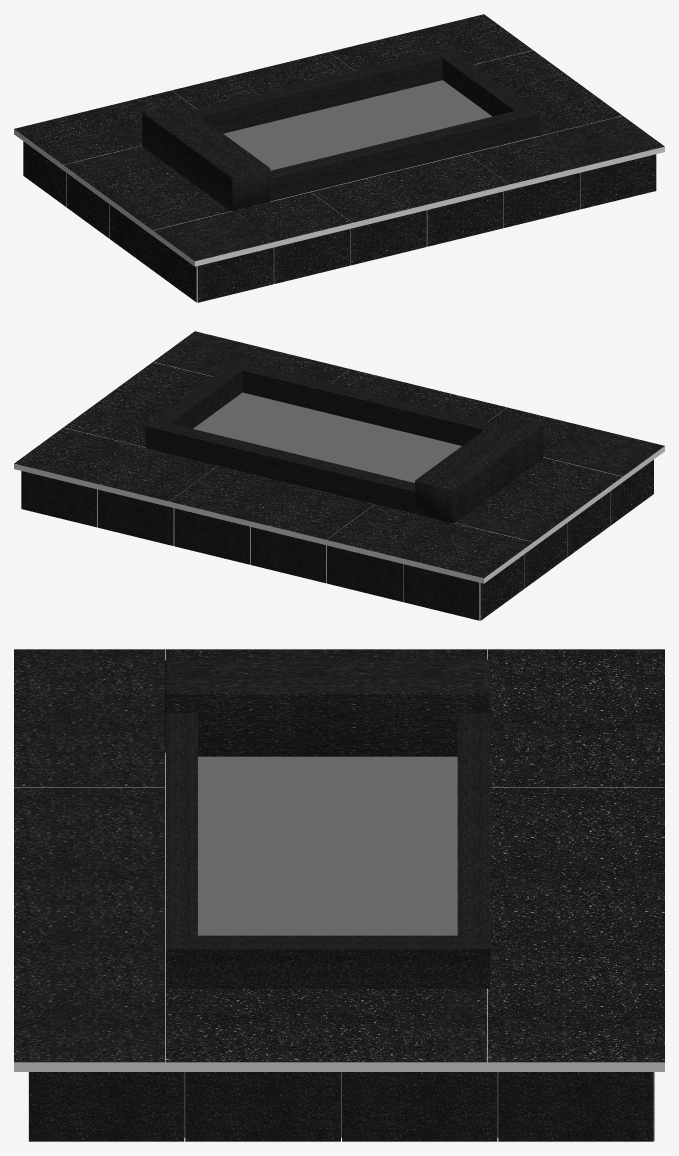
Rendered from Цветник Габро [granite_100_u].glb.
3 renders of one model, top to bottom at view 1: azimuth 30°, elevation 25°; view 2: azimuth 150°, elevation 25°; view 3: azimuth 270°, elevation 25°, orthographic. The views are drawn at different scales.
Parts seen in each view (by area): view 1: Куб.110; view 2: Куб.110; view 3: Куб.110.
Boxes of the visible parts, x1,y1,x2,y2 form: Куб.110: [14, 14, 664, 302]; Куб.110: [14, 331, 664, 620]; Куб.110: [14, 649, 664, 1141].
Bounding box in the file's own units: 1.8 × 0.2913 × 1.2.
3 materials, 1 textured.
